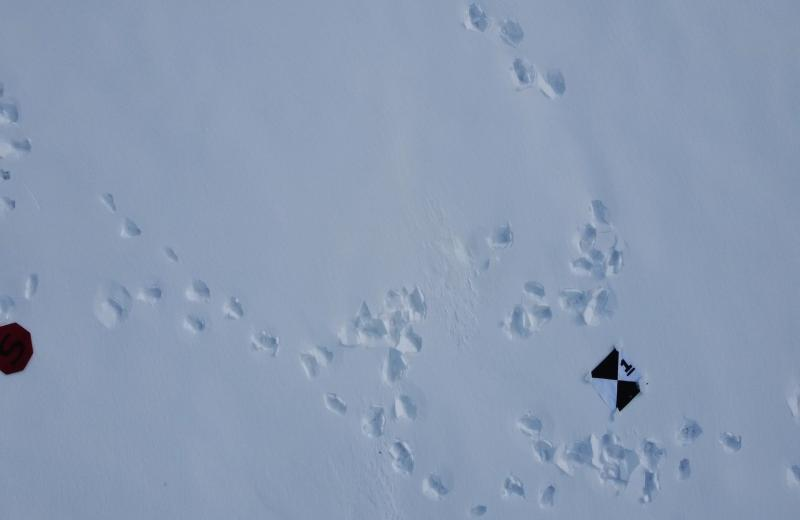Octagon: (0, 317, 35, 378)
